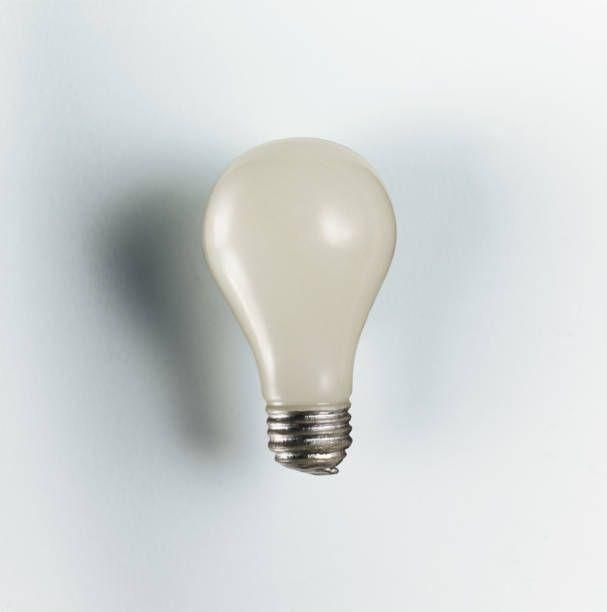light bulb: (198, 131, 398, 481)
